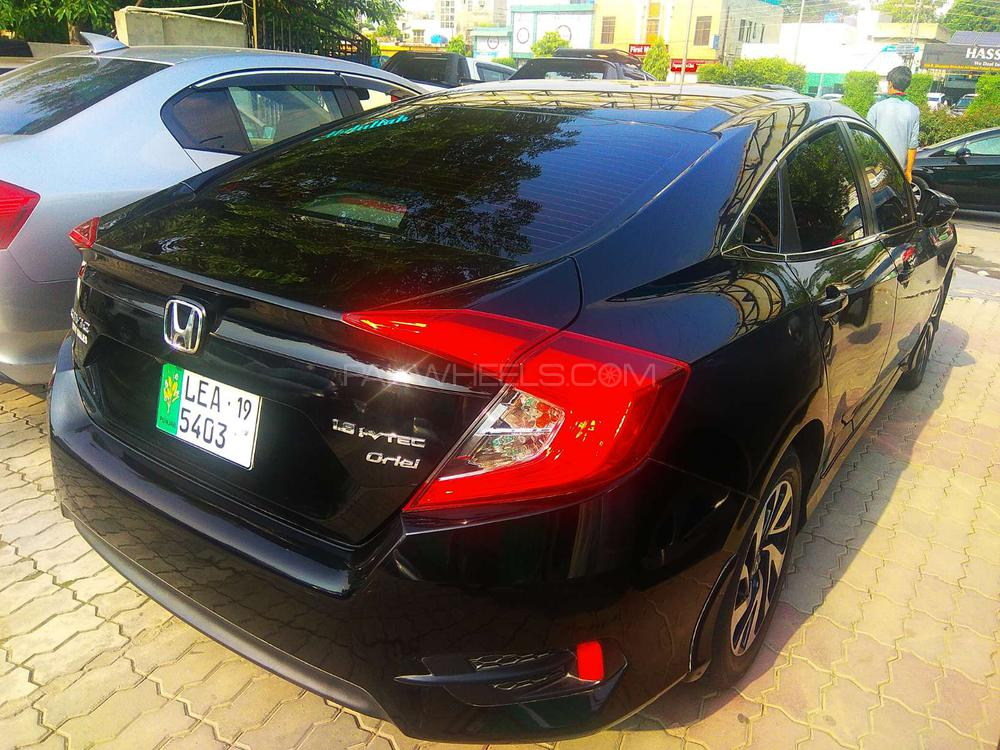license plate: (149, 368, 264, 445)
